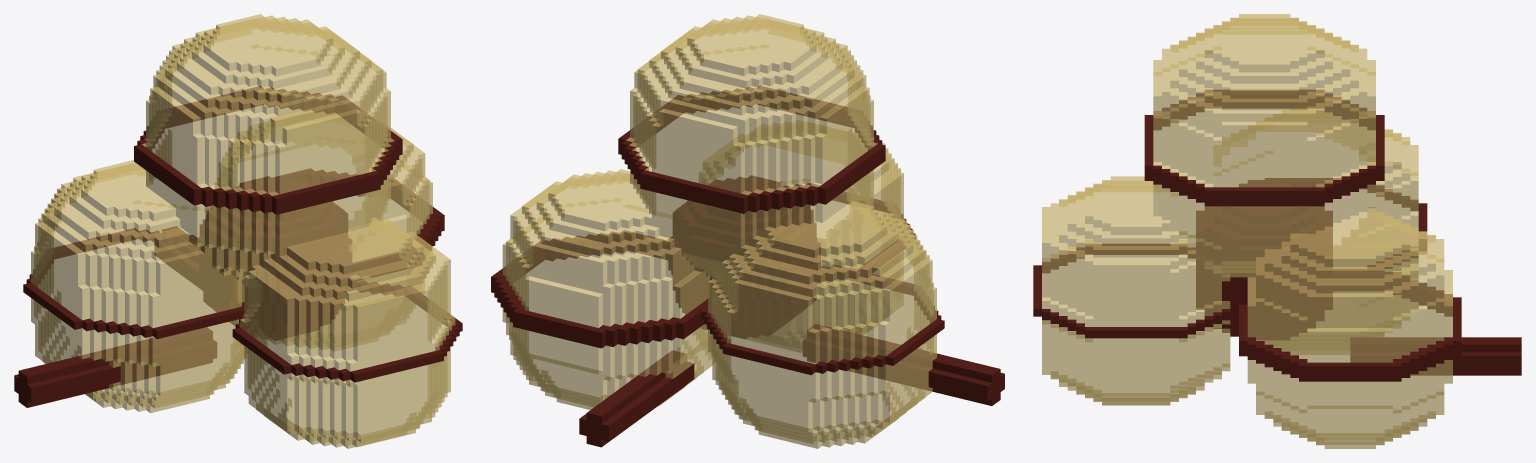
The model's file is ballast.glb.
3 renders of one model, left to right at view 1: azimuth 30°, elevation 25°; view 2: azimuth 150°, elevation 25°; view 3: azimuth 270°, elevation 25°, orthographic.
Parts seen in each view (by area): view 1: ballast:compound; view 2: ballast:compound; view 3: ballast:compound.
Boxes of the visible parts, bbox=[...] form: ballast:compound: bbox=[14, 14, 462, 448]; ballast:compound: bbox=[491, 14, 1004, 448]; ballast:compound: bbox=[1033, 14, 1521, 448].
Bounding box in the file's own units: 0.118 × 0.086 × 0.114.
